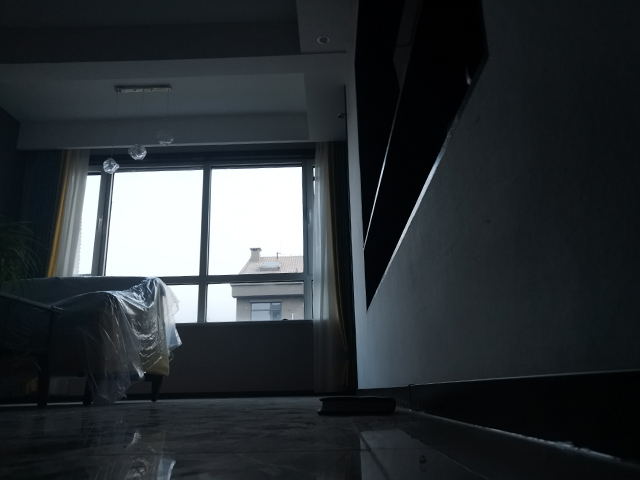book: (314, 393, 398, 418)
curtain: (308, 138, 355, 398), (15, 149, 91, 275)
sofa: (1, 273, 177, 408)
